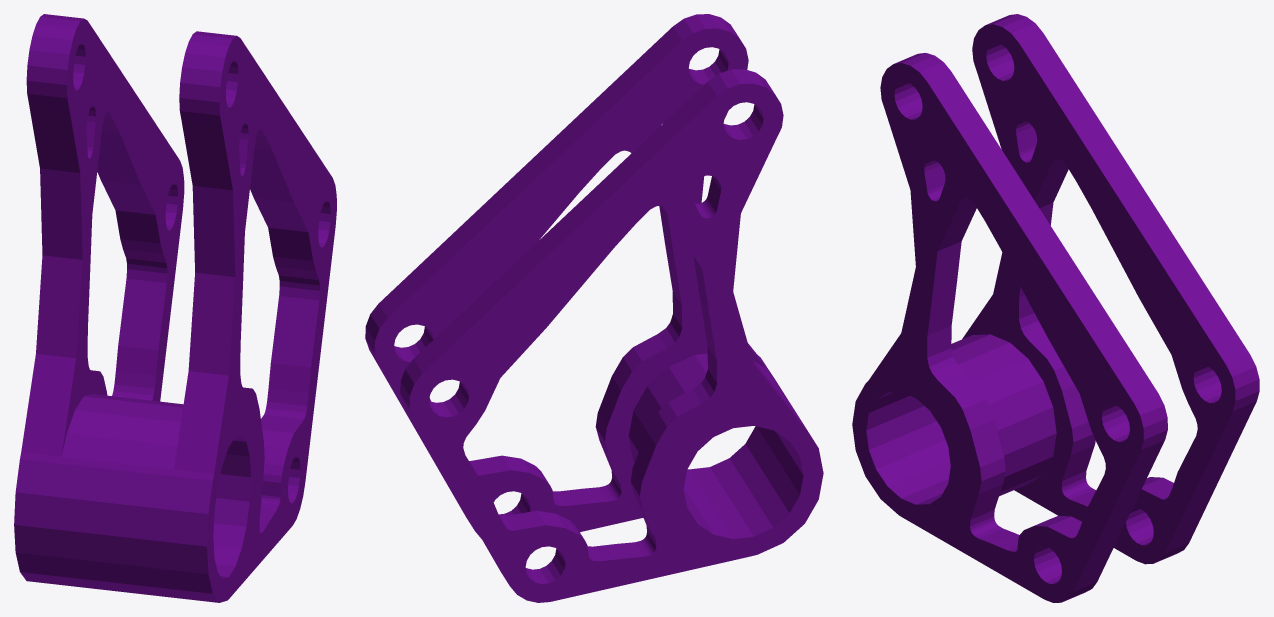
File: modell.glb
3 renders of one model, left to right at view 1: azimuth 30°, elevation 25°; view 2: azimuth 150°, elevation 25°; view 3: azimuth 270°, elevation 25°, orthographic. The views are drawn at different scales.
Visible parts, largest first — view 1: exportalt_modelled; view 2: exportalt_modelled; view 3: exportalt_modelled.
Part boxes in pixels (x1=…): exportalt_modelled: x1=14, y1=14, x2=336, y2=602; exportalt_modelled: x1=365, y1=14, x2=823, y2=602; exportalt_modelled: x1=852, y1=14, x2=1259, y2=602.
Size of the model in its own units: 0.13 by 0.168 by 0.13.
